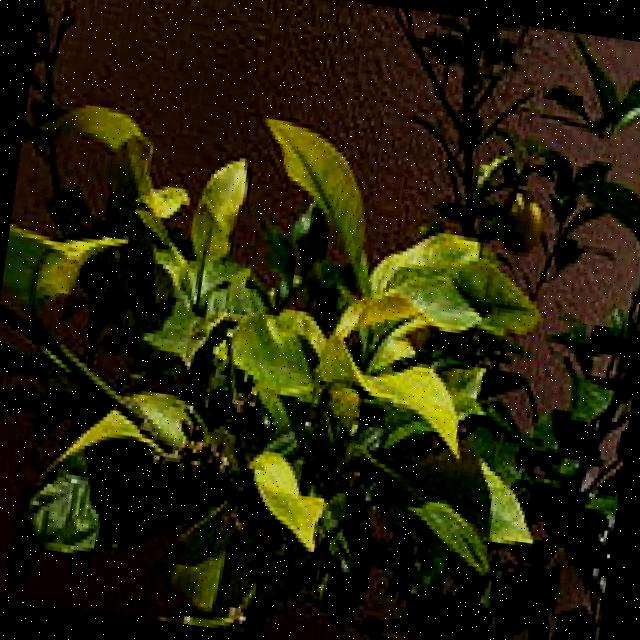yellow: (0, 42, 577, 640)
